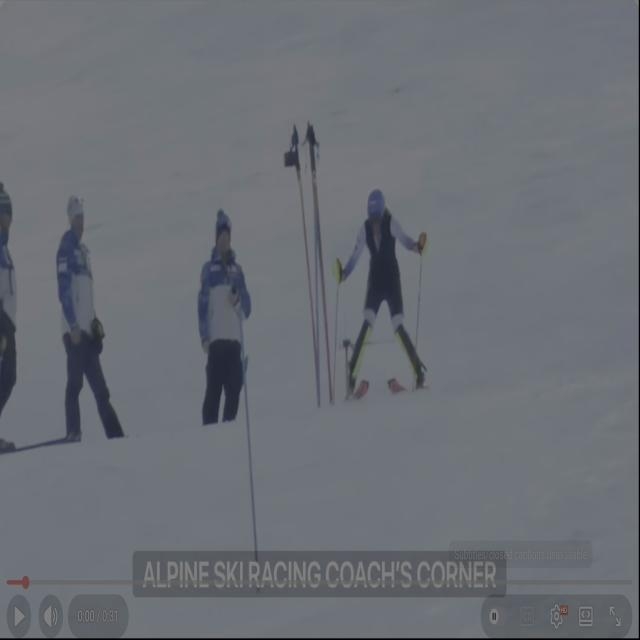gate: (300, 123, 340, 414), (228, 291, 264, 571)
